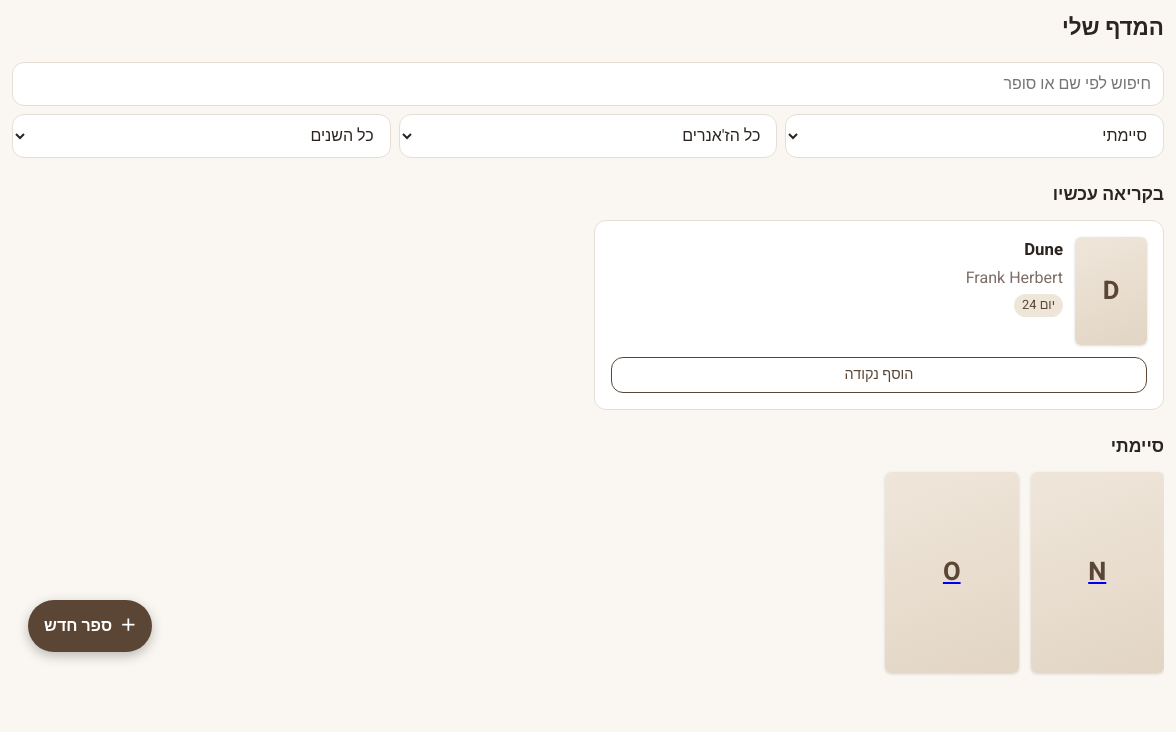
Test case: Shelf › searches by title or author
Type "new" into the search field labelled "חיפוש לפי שם או סופר" at (588, 84), box [12,62,1164,106]
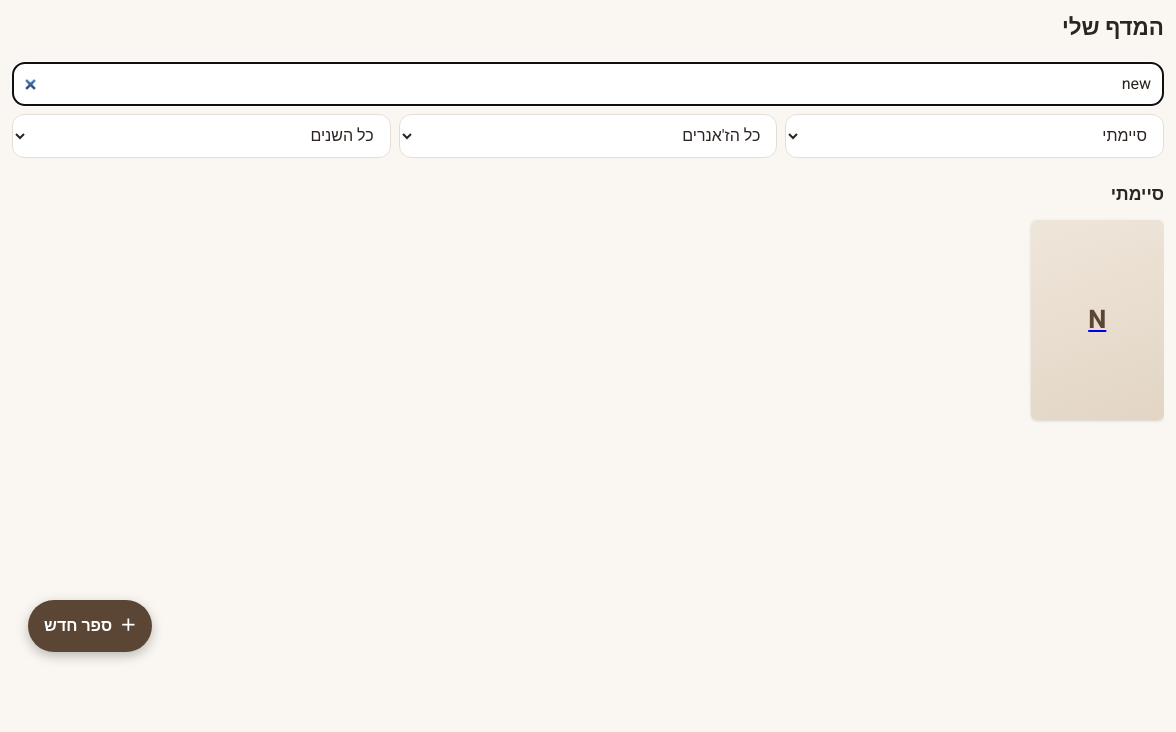
Expected: the heading "בקריאה עכשיו" is gone
